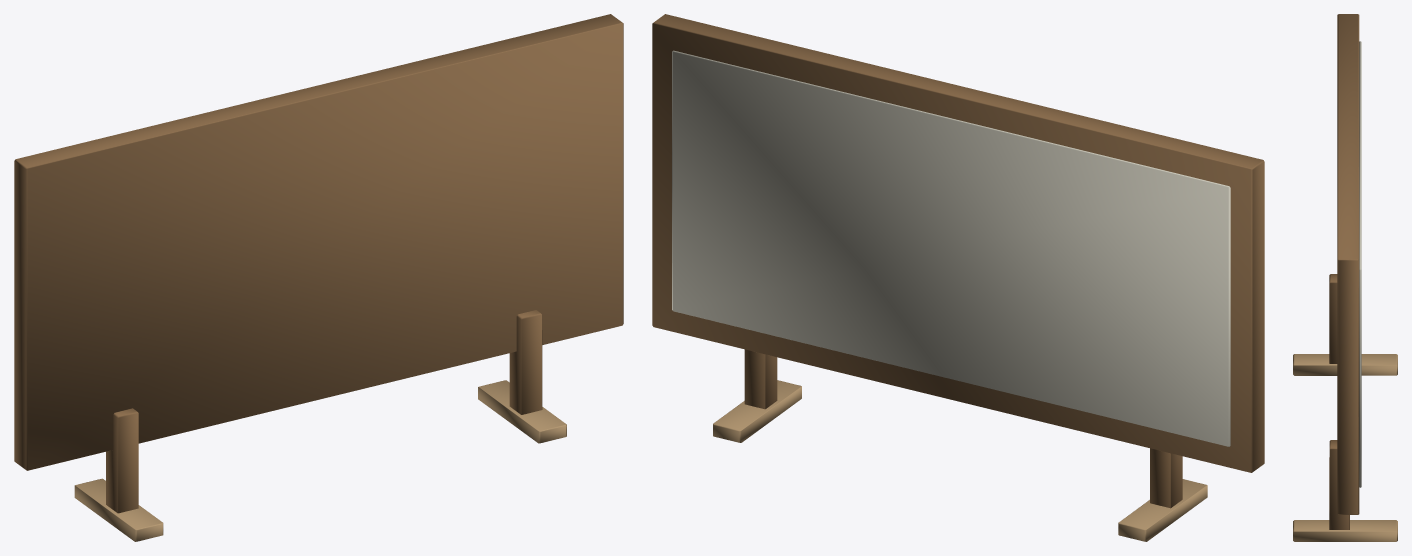
Rendered from mural_stage0_low.glb.
The picture shows the model from 3 angles, left to right: view 1: azimuth 30°, elevation 25°; view 2: azimuth 150°, elevation 25°; view 3: azimuth 270°, elevation 25°; orthographic projection. The views are drawn at different scales.
Bounding box in the file's own units: 4 × 2.4 × 0.72.
